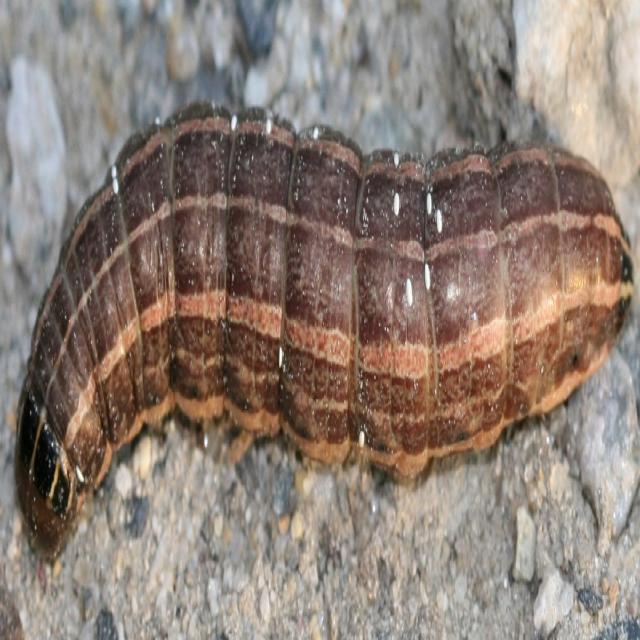worm: (14, 98, 635, 561)
